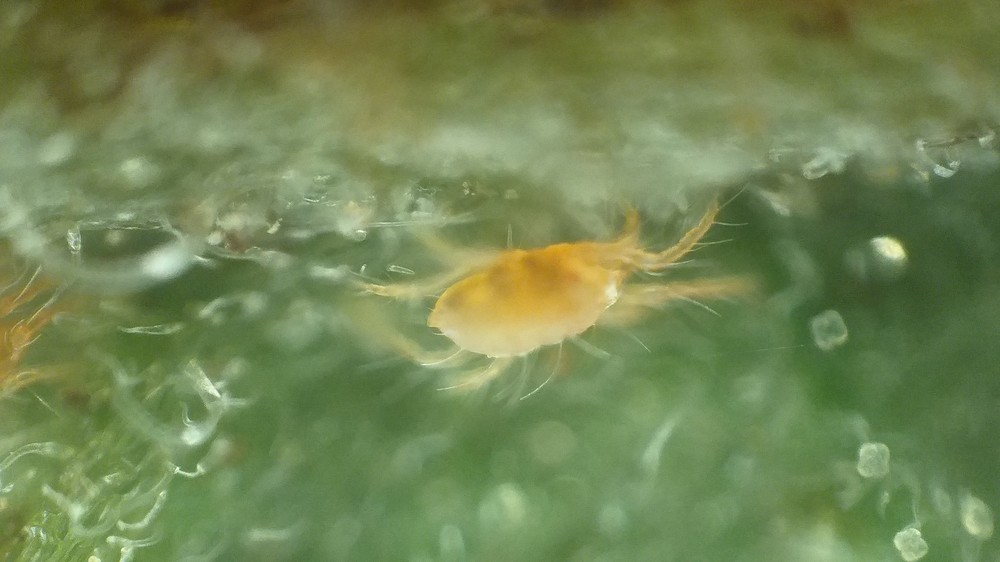Aracnido Rojo: (346, 177, 807, 405)
